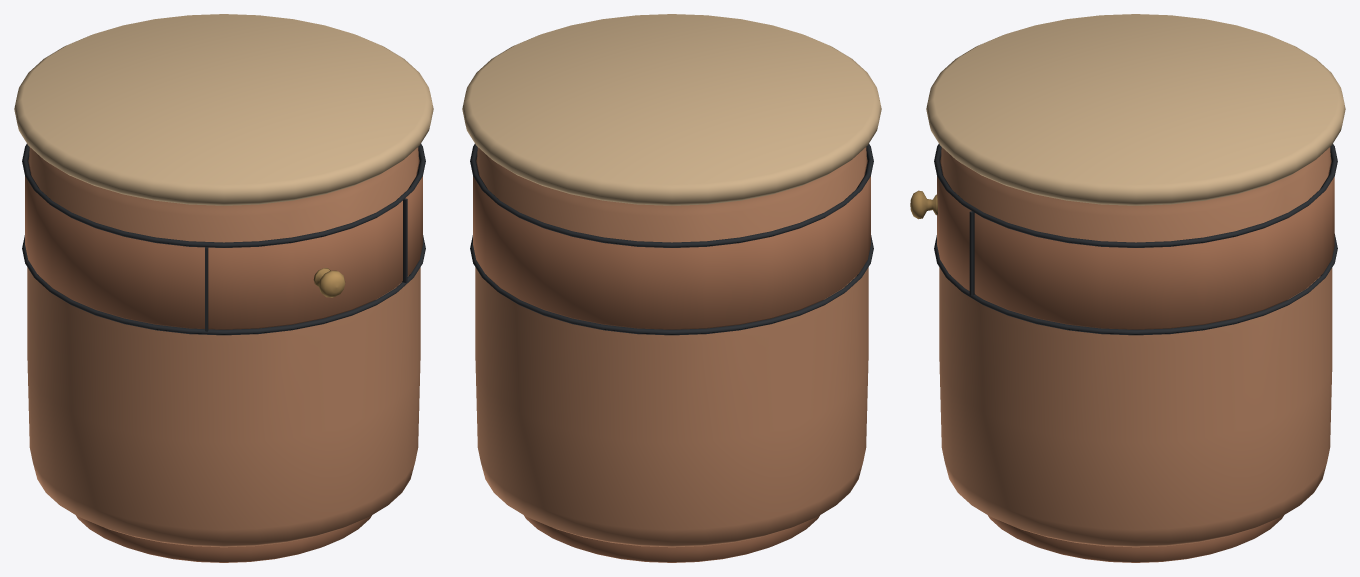
Rendered from nightstandRound.glb.
3 views of the same model, side by side, from view 1: azimuth 30°, elevation 25°; view 2: azimuth 150°, elevation 25°; view 3: azimuth 270°, elevation 25° (orthographic).
Parts seen in each view (by area): view 1: nightstandRound; view 2: nightstandRound; view 3: nightstandRound.
Boxes of the visible parts, x1,y1,x2,y2 form: nightstandRound: (14, 14, 433, 562); nightstandRound: (462, 14, 881, 562); nightstandRound: (910, 14, 1345, 562).
Size of the model in its own units: 0.54 by 0.57 by 0.5605.
